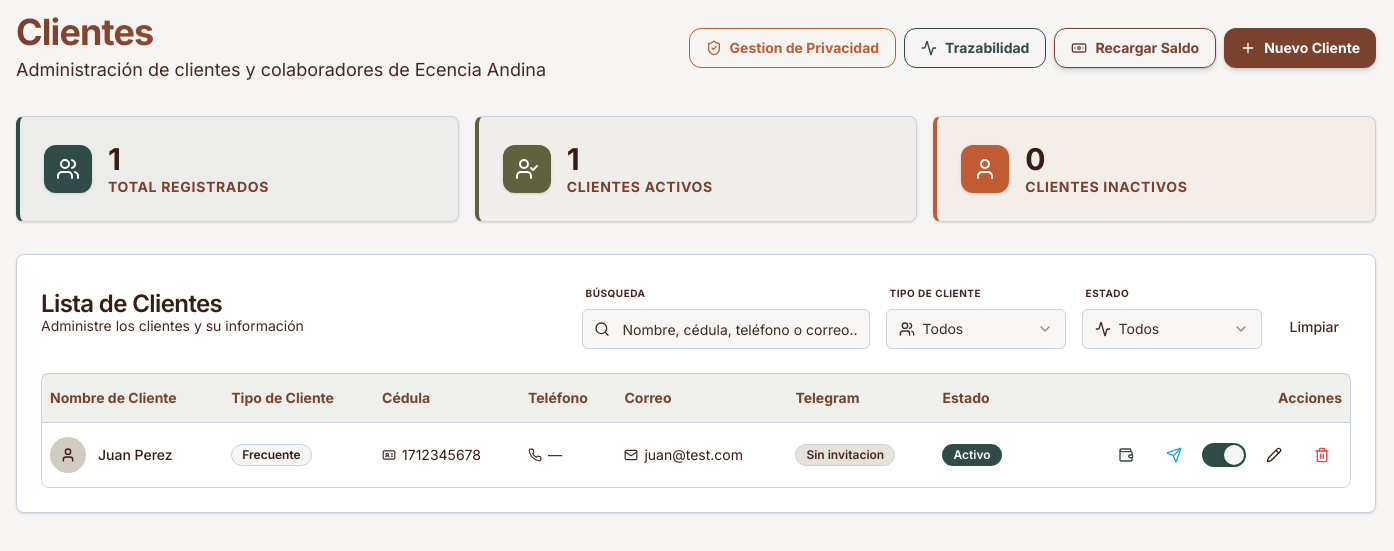
Scenario: Clientes › permite buscar clientes
Expected: the text "Juan Perez" is shown, [98, 444, 173, 464]
Simulate search
Type "Inexistente" into the field with placeholder "Nombre, cédula, teléfono o correo...".
click(726, 329); type("Inexistente")  # box [582, 309, 870, 349]
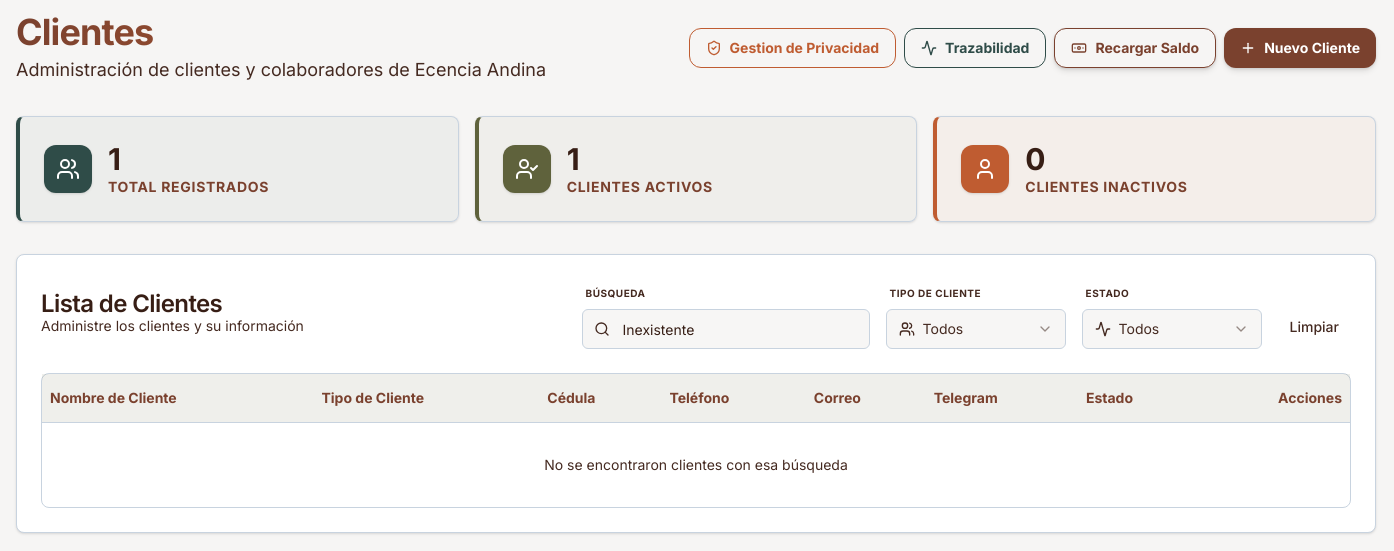
Now the text "No se encontraron clientes con esa búsqueda" is shown, box [42, 422, 1350, 506]
Test clear filters button
Click the button "Limpiar".
click(1314, 327)  # box [1278, 309, 1351, 345]
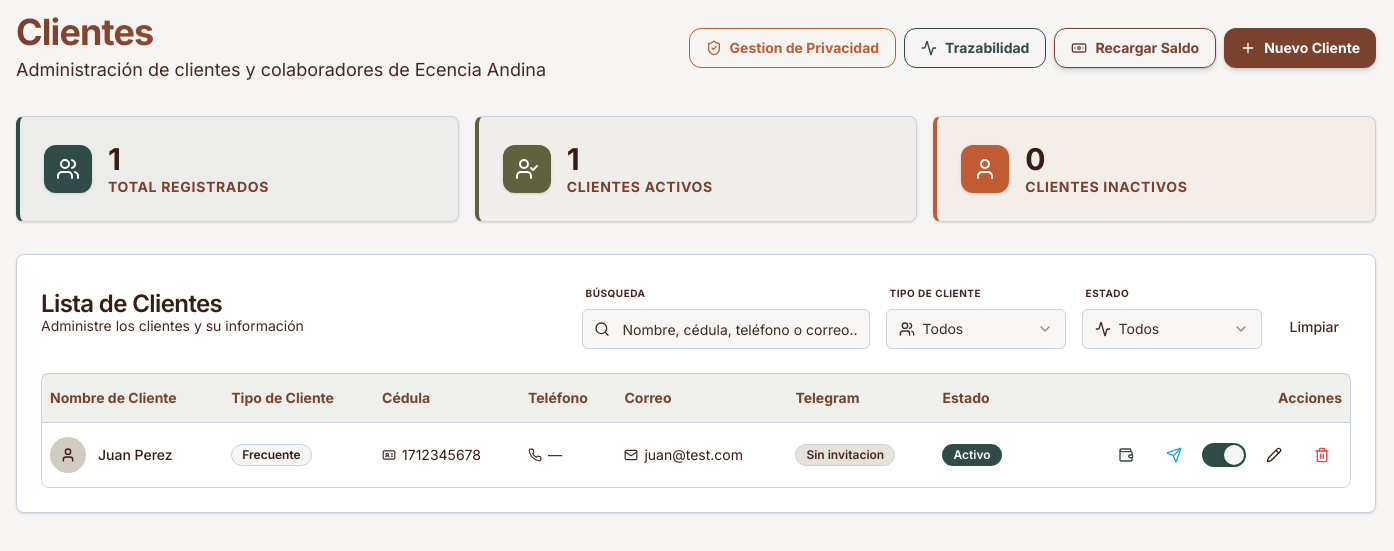
Now the text "Juan Perez" is shown, box [98, 444, 173, 464]
